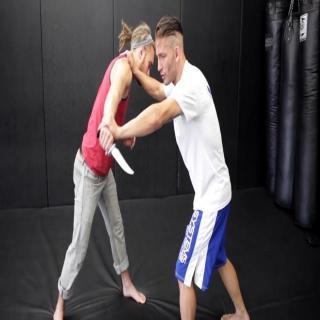knife: (96, 125, 136, 181)
